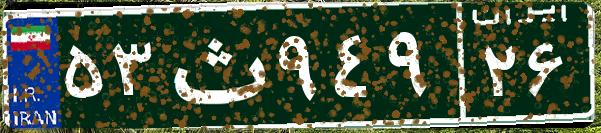2: (475, 38, 525, 113)
3: (110, 28, 158, 105)
4: (330, 28, 385, 110)
5: (57, 26, 110, 107)
6: (525, 38, 570, 115)
9: (385, 28, 445, 110), (273, 28, 330, 110)
ث: (158, 15, 273, 115)
